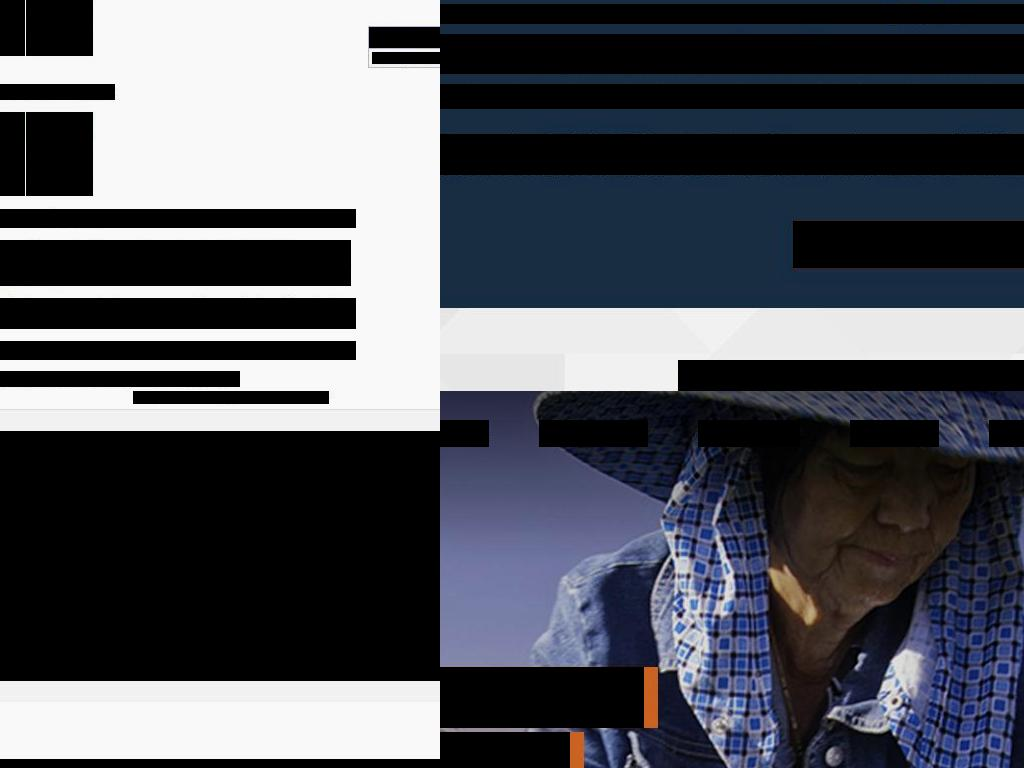button: (793, 221, 1024, 268), (539, 420, 648, 447), (698, 420, 800, 447), (850, 420, 939, 447), (133, 391, 329, 403), (440, 420, 489, 447), (989, 420, 1024, 447)
heading: (440, 34, 1024, 74), (440, 667, 644, 728), (440, 4, 1024, 24), (0, 209, 356, 228), (0, 341, 356, 360), (678, 360, 820, 391), (911, 360, 1024, 391), (819, 360, 912, 391)
iframe: (0, 431, 440, 681)
image: (133, 391, 329, 404)
link: (440, 732, 570, 768), (0, 270, 53, 286), (372, 52, 440, 64), (0, 371, 27, 387)
text: (440, 134, 1024, 175), (0, 240, 351, 286), (440, 84, 1024, 109), (0, 298, 356, 329), (18, 240, 220, 256), (539, 420, 638, 447), (698, 420, 790, 447), (850, 420, 929, 447), (26, 0, 93, 28), (26, 28, 93, 56), (26, 112, 93, 140), (26, 140, 93, 168), (26, 168, 93, 196), (0, 84, 112, 100), (369, 27, 440, 48), (163, 371, 240, 387), (52, 270, 123, 286), (219, 240, 286, 256), (440, 420, 479, 447), (989, 420, 1024, 447), (121, 371, 165, 387), (0, 0, 25, 28), (0, 28, 25, 56), (0, 112, 25, 140), (0, 140, 25, 168), (0, 168, 25, 196), (57, 371, 94, 387), (27, 371, 58, 387), (92, 371, 121, 387), (0, 240, 20, 256), (111, 84, 115, 100)
